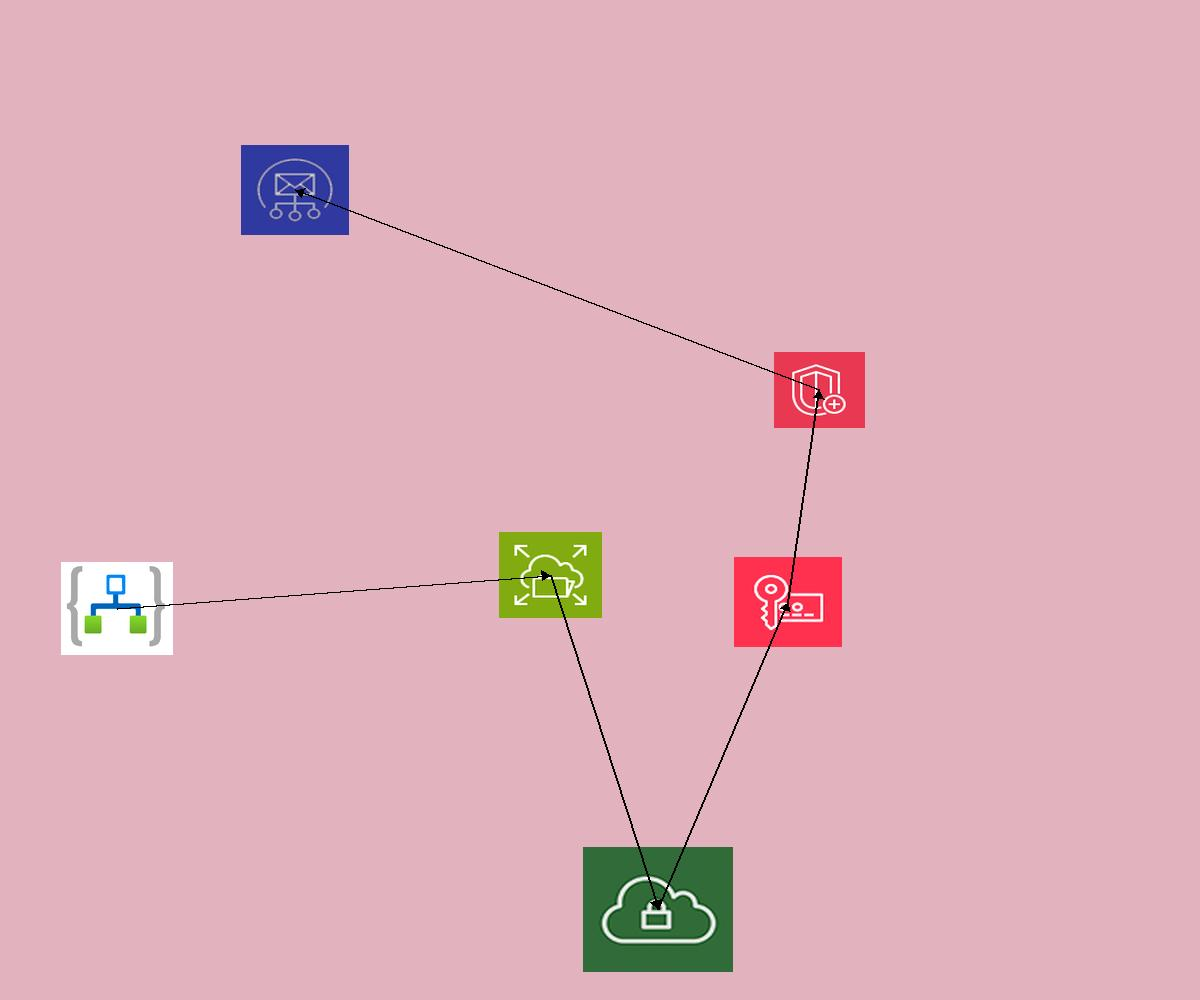AWS-EFS: (499, 532, 602, 618)
AWS-Key-Management-Service: (734, 557, 842, 647)
AWS-Private_vpc: (583, 847, 733, 972)
AWS-Shield: (774, 352, 865, 428)
AWS-Simple-Email-Service: (241, 145, 349, 235)
Azure_integration-204-Logic-Apps: (61, 562, 173, 655)
